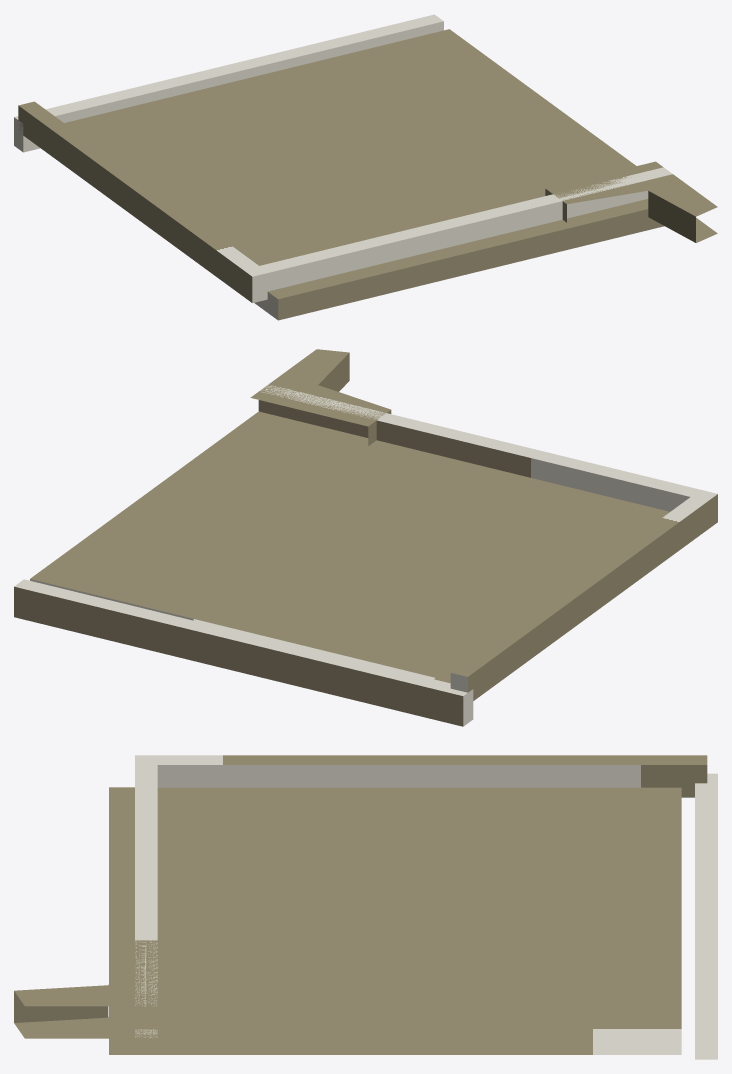
The model's file is section-0.obj.
3 views of the same model, one above another, from view 1: azimuth 30°, elevation 25°; view 2: azimuth 150°, elevation 25°; view 3: azimuth 270°, elevation 25° (orthographic). The views are drawn at different scales.
Size of the model in its own units: 0.83 by 0.082 by 0.984.
